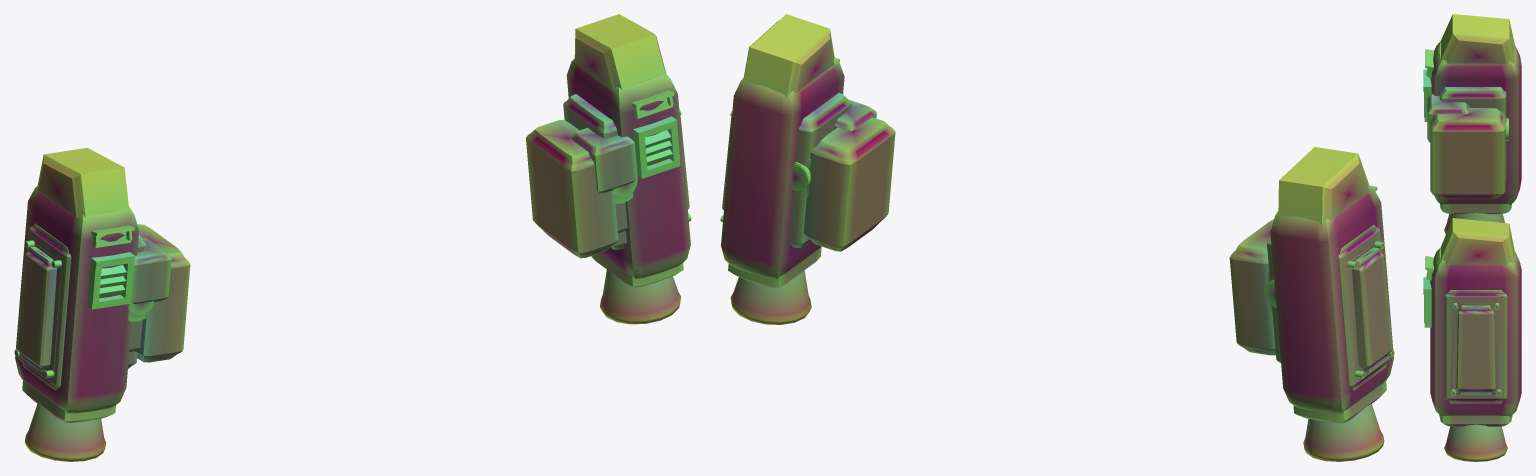
The model's file is llm_gen_leg_thrusters_061_c4a7c6.glb.
3 views of the same model, side by side, from view 1: azimuth 30°, elevation 25°; view 2: azimuth 150°, elevation 25°; view 3: azimuth 270°, elevation 25° (orthographic). The views are drawn at different scales.
Visible parts, largest first — view 1: calf_thruster_hull_1_zeon_olive_coat_l, calf_thruster_hull_1_zeon_olive_coat_r, adapter_calf_clamp_r, nacelle_upper_cowl_2_era_block_r, nacelle_upper_cowl_2_era_block_l, nacelle_flank_armor_6_era_block_l, adapter_calf_clamp_l, calf_main_bell_8_vernier_bell_vernier_l, calf_main_bell_8_vernier_bell_vernier_r, adapter_leg_knee_mount_dark_11_adapter_dark_r, adapter_sub_flank_frame_dark_5_adapter_dark_l, adapter_leg_knee_mount_dark_11_adapter_dark_l (+7 smaller); view 2: calf_thruster_hull_1_zeon_olive_coat_l, calf_thruster_hull_1_zeon_olive_coat_r, adapter_calf_clamp_r, nacelle_upper_cowl_2_era_block_r, nacelle_upper_cowl_2_era_block_l, nacelle_flank_armor_6_era_block_l, adapter_calf_clamp_l, calf_main_bell_8_vernier_bell_vernier_l, calf_main_bell_8_vernier_bell_vernier_r, adapter_sub_tank_cradle_dark_0_adapter_dark_r, adapter_sub_flank_frame_dark_5_adapter_dark_l, adapter_sub_nozzle_shroud_dark_7_adapter_dark_l (+2 smaller); view 3: calf_thruster_hull_1_zeon_olive_coat_r, adapter_calf_clamp_l, calf_thruster_hull_1_zeon_olive_coat_l, nacelle_flank_armor_6_era_block_r, nacelle_upper_cowl_2_era_block_l, nacelle_upper_cowl_2_era_block_r, adapter_sub_flank_frame_dark_5_adapter_dark_r, calf_main_bell_8_vernier_bell_vernier_r, adapter_sub_tank_cradle_dark_0_adapter_dark_l, adapter_sub_nozzle_shroud_dark_7_adapter_dark_r, adapter_leg_knee_mount_dark_11_adapter_dark_l, adapter_sub_nozzle_shroud_dark_7_adapter_dark_l (+5 smaller).
Boxes of the visible parts, x1=… form: calf_thruster_hull_1_zeon_olive_coat_l: x1=15, y1=185, x2=139, y2=413; calf_thruster_hull_1_zeon_olive_coat_r: x1=566, y1=58, x2=690, y2=278; adapter_calf_clamp_r: x1=526, y1=119, x2=632, y2=258; nacelle_upper_cowl_2_era_block_r: x1=574, y1=14, x2=666, y2=90; nacelle_upper_cowl_2_era_block_l: x1=37, y1=147, x2=129, y2=218; nacelle_flank_armor_6_era_block_l: x1=14, y1=240, x2=62, y2=378; adapter_calf_clamp_l: x1=128, y1=224, x2=190, y2=362; calf_main_bell_8_vernier_bell_vernier_l: x1=25, y1=403, x2=105, y2=461; calf_main_bell_8_vernier_bell_vernier_r: x1=600, y1=270, x2=680, y2=324; adapter_leg_knee_mount_dark_11_adapter_dark_r: x1=570, y1=128, x2=637, y2=193; adapter_sub_flank_frame_dark_5_adapter_dark_l: x1=18, y1=223, x2=71, y2=390; adapter_leg_knee_mount_dark_11_adapter_dark_l: x1=131, y1=237, x2=171, y2=303; calf_thruster_hull_1_zeon_olive_coat_l: x1=1270, y1=184, x2=1393, y2=413; calf_thruster_hull_1_zeon_olive_coat_r: x1=721, y1=58, x2=844, y2=279; adapter_calf_clamp_r: x1=803, y1=117, x2=895, y2=251; nacelle_upper_cowl_2_era_block_r: x1=742, y1=14, x2=834, y2=97; nacelle_upper_cowl_2_era_block_l: x1=1278, y1=147, x2=1369, y2=226; nacelle_flank_armor_6_era_block_l: x1=1347, y1=241, x2=1394, y2=378; adapter_calf_clamp_l: x1=1229, y1=219, x2=1275, y2=355; calf_main_bell_8_vernier_bell_vernier_l: x1=1303, y1=404, x2=1384, y2=461; calf_main_bell_8_vernier_bell_vernier_r: x1=730, y1=270, x2=811, y2=324; adapter_sub_tank_cradle_dark_0_adapter_dark_r: x1=789, y1=92, x2=851, y2=248; adapter_sub_flank_frame_dark_5_adapter_dark_l: x1=1338, y1=224, x2=1390, y2=390; adapter_sub_nozzle_shroud_dark_7_adapter_dark_l: x1=1293, y1=380, x2=1386, y2=422; calf_thruster_hull_1_zeon_olive_coat_r: x1=1430, y1=247, x2=1521, y2=416; adapter_calf_clamp_l: x1=1430, y1=108, x2=1505, y2=199; calf_thruster_hull_1_zeon_olive_coat_l: x1=1430, y1=41, x2=1521, y2=204; nacelle_flank_armor_6_era_block_r: x1=1450, y1=303, x2=1501, y2=395; nacelle_upper_cowl_2_era_block_l: x1=1440, y1=14, x2=1514, y2=64; nacelle_upper_cowl_2_era_block_r: x1=1440, y1=218, x2=1514, y2=265; adapter_sub_flank_frame_dark_5_adapter_dark_r: x1=1444, y1=290, x2=1507, y2=403; calf_main_bell_8_vernier_bell_vernier_r: x1=1444, y1=424, x2=1507, y2=461; adapter_sub_tank_cradle_dark_0_adapter_dark_l: x1=1439, y1=87, x2=1506, y2=181; adapter_sub_nozzle_shroud_dark_7_adapter_dark_r: x1=1439, y1=415, x2=1512, y2=426; adapter_leg_knee_mount_dark_11_adapter_dark_l: x1=1427, y1=94, x2=1469, y2=142; adapter_sub_nozzle_shroud_dark_7_adapter_dark_l: x1=1440, y1=204, x2=1511, y2=214.
Size of the model in its own units: 85.13 by 35.8 by 14.33.
